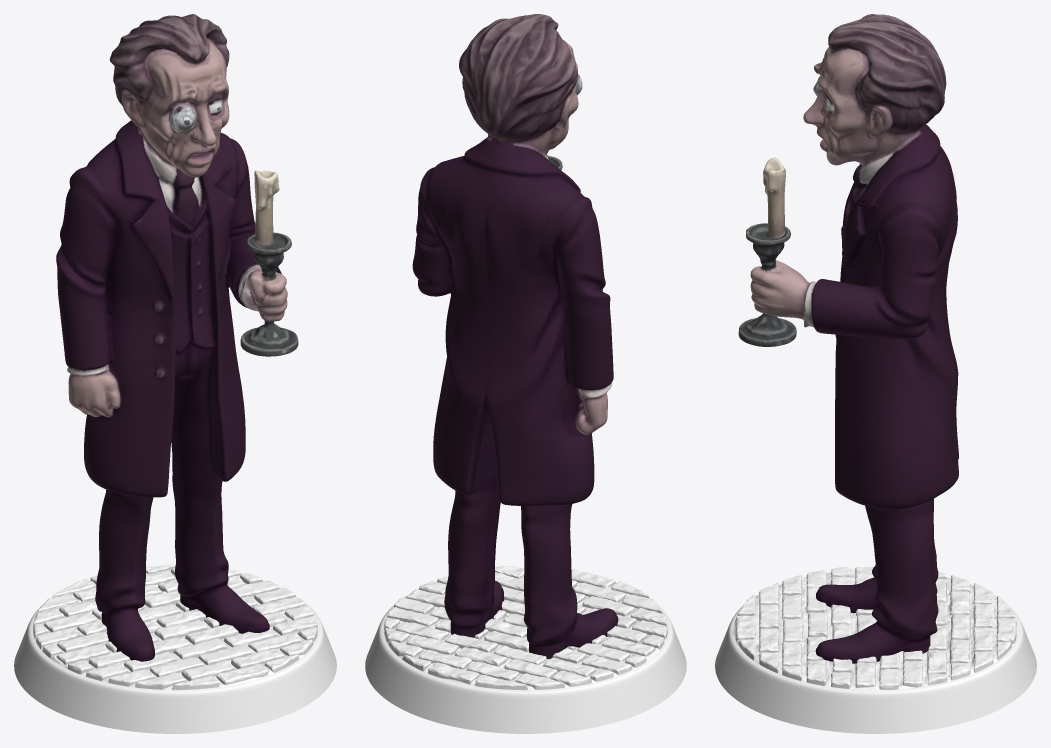
File: diretor_base_apagado.glb
3 views of the same model, side by side, from view 1: azimuth 30°, elevation 25°; view 2: azimuth 150°, elevation 25°; view 3: azimuth 270°, elevation 25° (orthographic).
Parts seen in each view (by area): view 1: mesh_node, Object_3.002; view 2: mesh_node, Object_3.002; view 3: mesh_node, Object_3.002.
Part boxes in pixels (bbox=[...]): mesh_node: bbox=[56, 14, 298, 661]; Object_3.002: bbox=[14, 565, 336, 733]; mesh_node: bbox=[412, 14, 618, 658]; Object_3.002: bbox=[365, 566, 686, 733]; mesh_node: bbox=[738, 14, 958, 663]; Object_3.002: bbox=[715, 567, 1036, 733].
Size of the model in its own units: 0.4185 by 0.9212 by 0.4185.
Materials: 2 (1 with a texture image).
